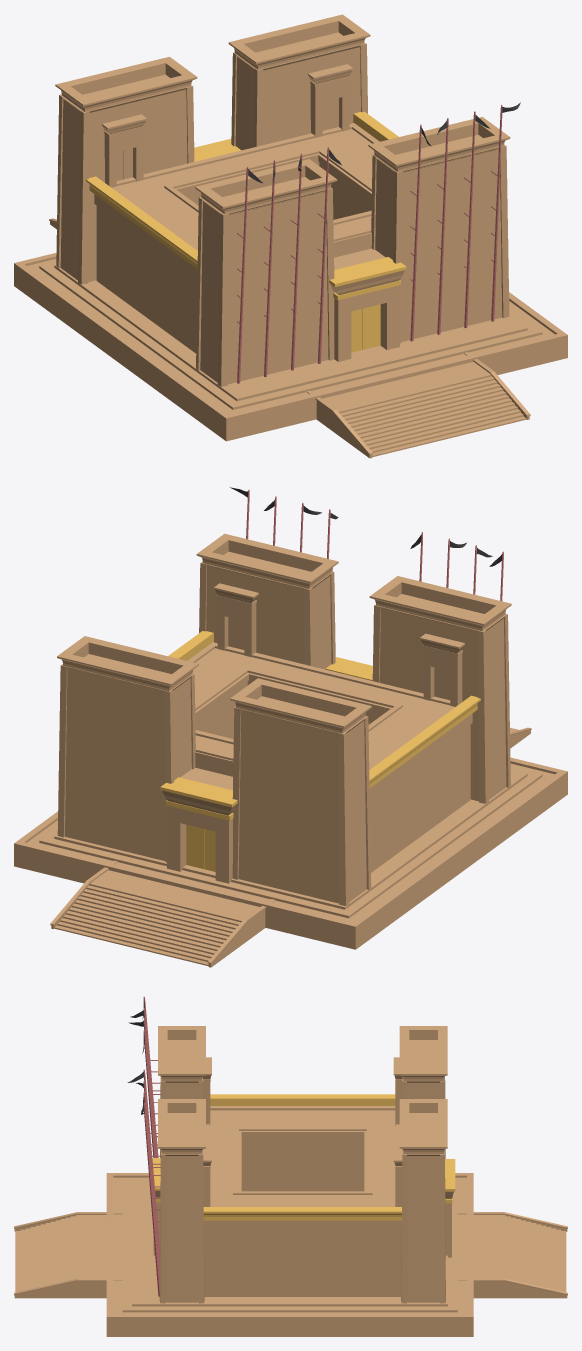
Rendered from palace.glb.
3 views of the same model, one above another, from view 1: azimuth 30°, elevation 25°; view 2: azimuth 150°, elevation 25°; view 3: azimuth 270°, elevation 25° (orthographic). The views are drawn at different scales.
Parts seen in each view (by area): view 1: Box095; view 2: Box095; view 3: Box095.
Part boxes in pixels (x1,y1,x2,y2): Box095: (14,14,567,458); Box095: (14,487,567,967); Box095: (14,996,567,1336).
Size of the model in its own units: 25.68 by 17.86 by 41.72.
